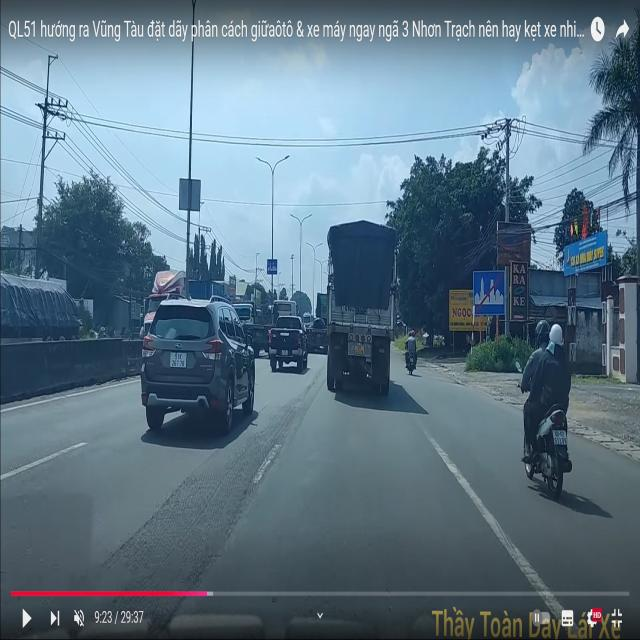Bien hieu lenh het khu dong dan cu: (470, 267, 509, 320)
